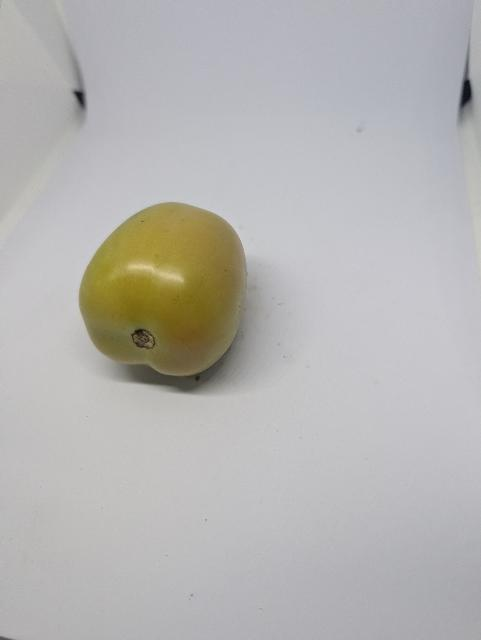breaker: (76, 199, 257, 378)
